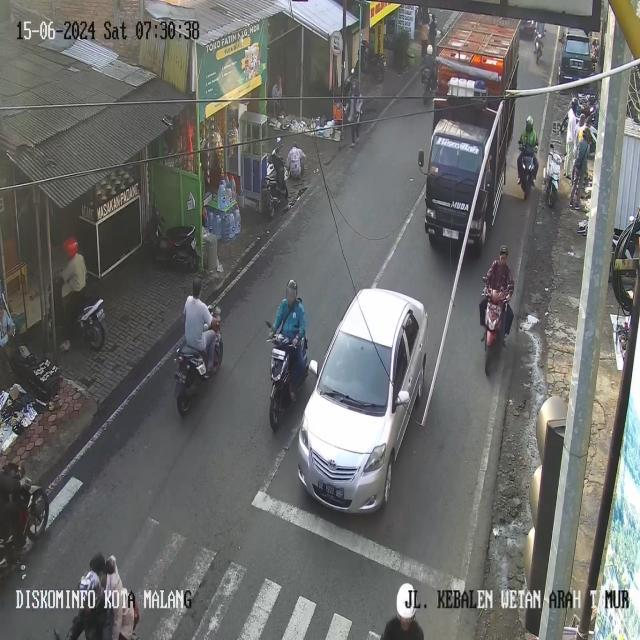Helmet: (396, 583, 414, 619), (63, 237, 78, 258), (286, 279, 297, 294), (526, 115, 533, 131), (570, 96, 578, 108), (499, 245, 508, 255), (588, 94, 595, 104), (426, 44, 432, 55)
Number Plate: (320, 483, 343, 498), (443, 228, 458, 239), (197, 364, 206, 375), (175, 373, 185, 382), (96, 309, 104, 319)
Rearview Mirror: (396, 390, 409, 405), (309, 360, 317, 375), (418, 149, 423, 167)
